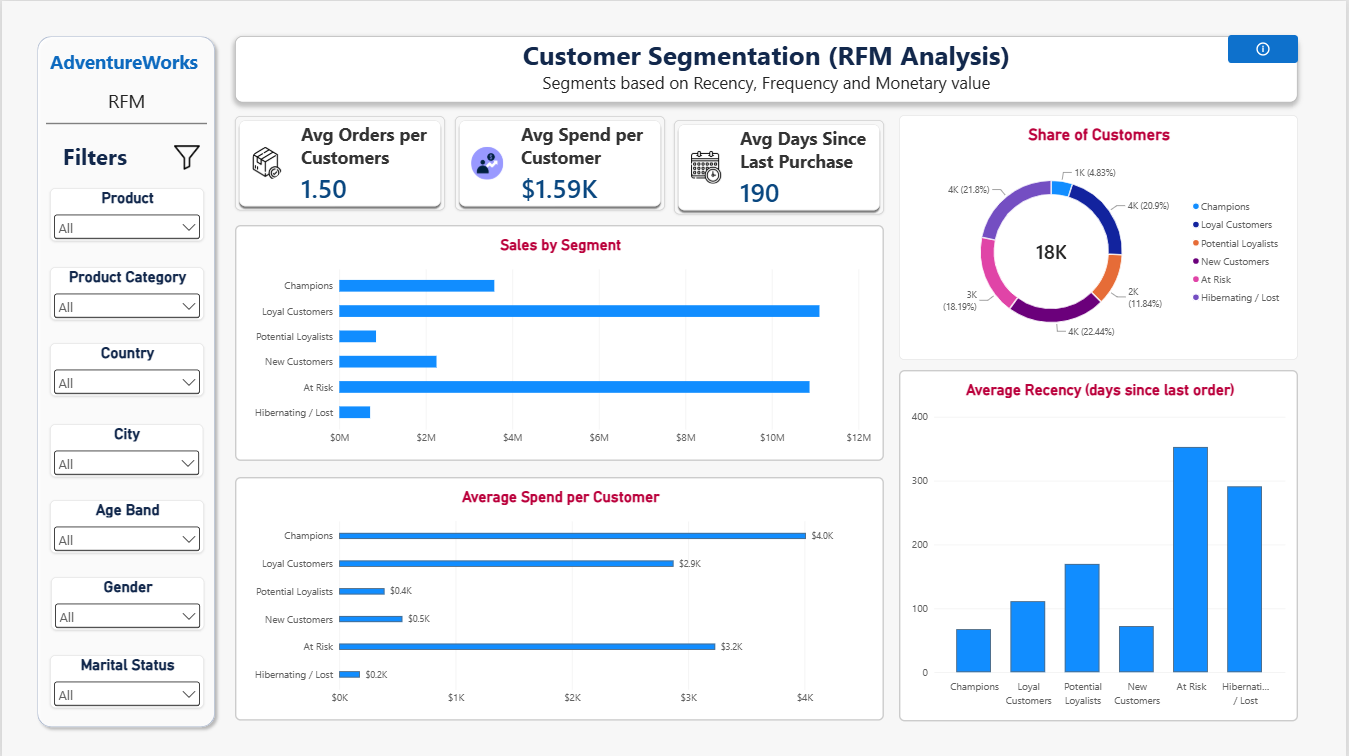

This screenshot's page, from the dashboard's own definition file:
{"tool":"powerbi","page":{"name":"Customer Segmentation","canvas":[1920,1080],"ordinal":1},"visuals":[{"type":"textbox","box":[333.3,50,1518.3,95],"z":0},{"type":"shape","box":[41.7,41.7,271.7,1005],"z":1000},{"type":"textbox","box":[68.3,198.3,128.6,52.9],"z":2000},{"type":"textbox","box":[52.9,68.6,250,97.1],"z":3000},{"type":"shape","box":[63.3,153.3,230,44.3],"z":4000},{"type":"image","box":[245,198.3,37.1,50],"z":5000},{"type":"slicer","title":"Product","fields":{"Values":["DimProduct.ProductName"]},"box":[68.3,266.7,220,75.7],"z":6000},{"type":"slicer","title":"Country","fields":{"Values":["DimGeography.Country"]},"box":[68.6,488.6,220,75.7],"z":7000},{"type":"slicer","title":"City","fields":{"Values":["DimGeography.City"]},"box":[68.6,604.3,218.6,75.7],"z":8000},{"type":"slicer","title":"Age Band","fields":{"Values":["DimCustomer.Age Band"]},"box":[68.6,712.9,220,75.7],"z":9000},{"type":"slicer","title":"Gender","fields":{"Values":["DimCustomer.Gender"]},"box":[70,822.9,218.6,75.7],"z":10000},{"type":"slicer","title":"Marital Status","fields":{"Values":["DimCustomer.MaritalStatus"]},"box":[68.6,934.3,220,75.7],"z":11000},{"type":"slicer","title":"Product Category","fields":{"Values":["DimProductCategory.Category"]},"box":[68.6,380,220,75.7],"z":12000},{"type":"cardVisual","title":"Revenue Growth","fields":{"Data":["_Measures.Avg Monetary"]},"box":[646.7,165,300,135],"z":13000},{"type":"cardVisual","title":"Revenue Growth","fields":{"Data":["_Measures.Avg Recency"]},"box":[960,170,300,135],"z":14000},{"type":"cardVisual","fields":{"Data":["_Measures.Avg Frequency"]},"box":[333.3,165,300,135],"z":15000},{"type":"clusteredBarChart","title":"Sales by Segment","fields":{"Category":["Segment Guide.Segment"],"Y":["_Measures.Total Sales"]},"box":[333.3,320,926.7,336.7],"z":16000},{"type":"clusteredBarChart","title":"Average Spend per Customer","fields":{"Category":["Segment Guide.Segment"],"Y":["_Measures.Avg Monetary"]},"box":[333.3,680,926.7,348.3],"z":17000},{"type":"columnChart","title":"Average Recency (days since last order)","fields":{"Category":["Segment Guide.Segment"],"Y":["_Measures.Avg Recency"]},"box":[1281.7,526.7,570,501.7],"z":18000},{"type":"donutChart","title":"Share of Customers","fields":{"Category":["Segment Guide.Segment"],"Y":["_Measures.Total Customers"]},"box":[1281.7,163.3,570,350],"z":19000},{"type":"actionButton","box":[1751.7,48.3,100,40],"z":20000}]}

Visuals, with their boxes in screenshot pixels (x1, y1, x2, y2), scaled from the page's 1920x1080 canvas onto the 1349x756 screenshot:
textbox: {"left": 234, "top": 35, "right": 1301, "bottom": 102}
shape: {"left": 29, "top": 29, "right": 220, "bottom": 733}
textbox: {"left": 48, "top": 139, "right": 138, "bottom": 176}
textbox: {"left": 37, "top": 48, "right": 213, "bottom": 116}
shape: {"left": 44, "top": 107, "right": 206, "bottom": 138}
image: {"left": 172, "top": 139, "right": 198, "bottom": 174}
"Product" slicer: {"left": 48, "top": 187, "right": 203, "bottom": 240}
"Country" slicer: {"left": 48, "top": 342, "right": 203, "bottom": 395}
"City" slicer: {"left": 48, "top": 423, "right": 202, "bottom": 476}
"Age Band" slicer: {"left": 48, "top": 499, "right": 203, "bottom": 552}
"Gender" slicer: {"left": 49, "top": 576, "right": 203, "bottom": 629}
"Marital Status" slicer: {"left": 48, "top": 654, "right": 203, "bottom": 707}
"Product Category" slicer: {"left": 48, "top": 266, "right": 203, "bottom": 319}
"Revenue Growth" cardVisual: {"left": 454, "top": 115, "right": 665, "bottom": 210}
"Revenue Growth" cardVisual: {"left": 674, "top": 119, "right": 885, "bottom": 214}
cardVisual - _Measures.Avg Frequency: {"left": 234, "top": 115, "right": 445, "bottom": 210}
"Sales by Segment" clusteredBarChart: {"left": 234, "top": 224, "right": 885, "bottom": 460}
"Average Spend per Customer" clusteredBarChart: {"left": 234, "top": 476, "right": 885, "bottom": 720}
"Average Recency (days since last order)" columnChart: {"left": 901, "top": 369, "right": 1301, "bottom": 720}
"Share of Customers" donutChart: {"left": 901, "top": 114, "right": 1301, "bottom": 359}
actionButton: {"left": 1231, "top": 34, "right": 1301, "bottom": 62}
